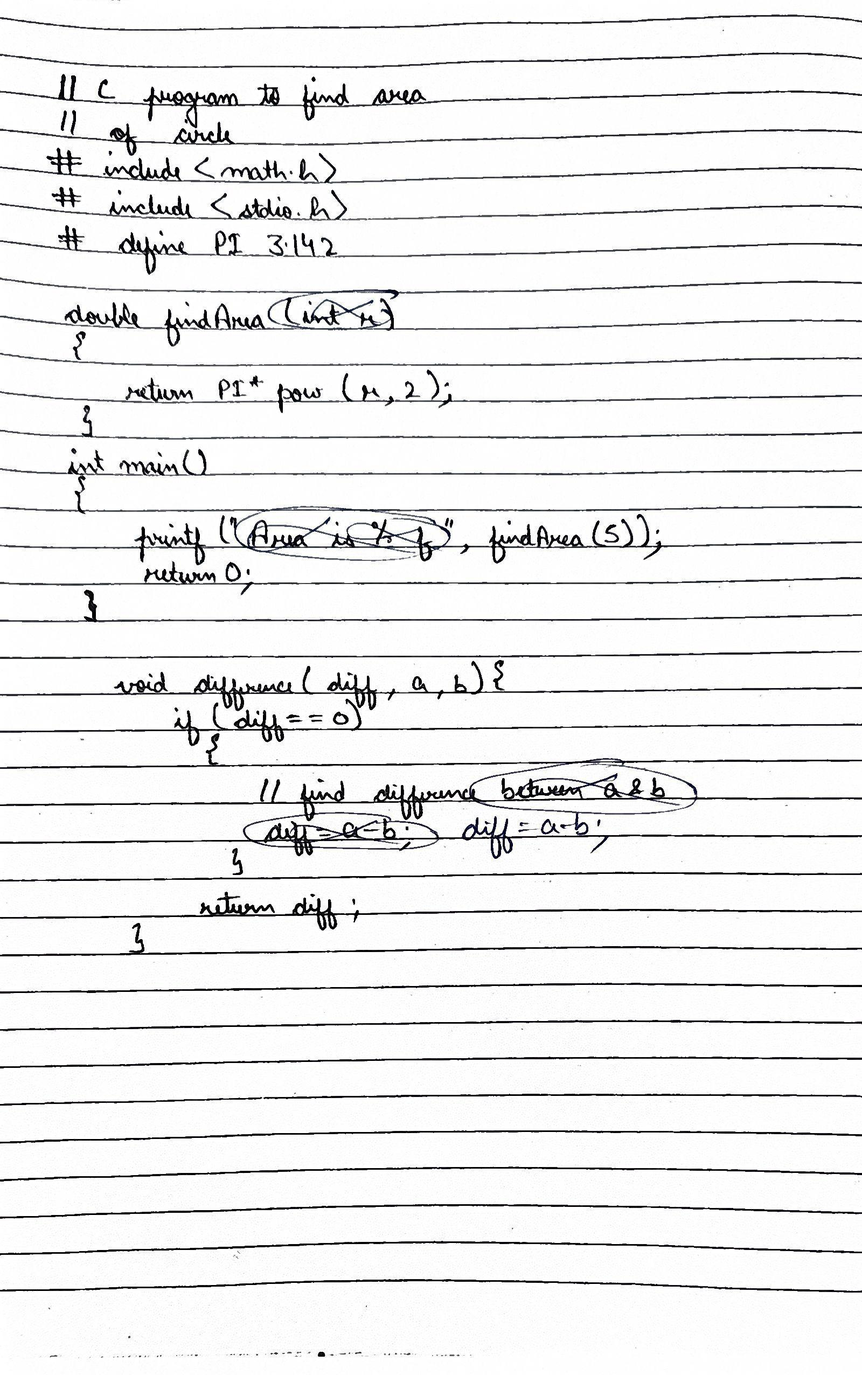cuttings: (469, 756, 700, 817), (233, 504, 453, 564), (241, 811, 442, 858), (266, 288, 404, 333)
